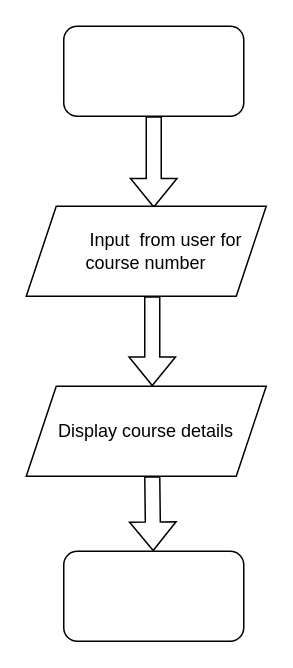
Image size: 293x668. Some labels were removed from this diagram. The centre of each missing label's shape, as x and y in pixels:
"End" belongs at point 153,595.
"Start" belongs at point 153,70.
